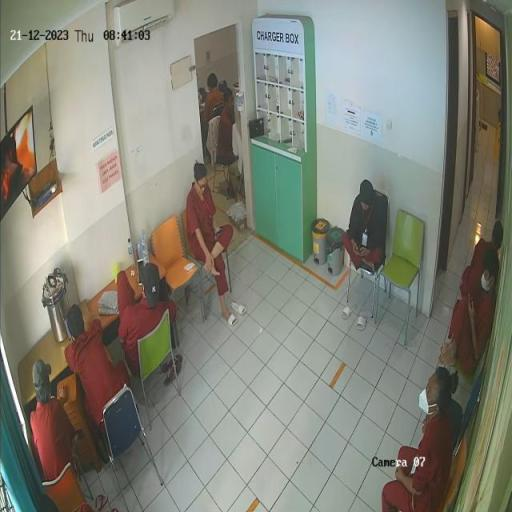person: (383, 367, 460, 512), (65, 306, 131, 465), (187, 163, 238, 327), (439, 249, 500, 375), (118, 264, 177, 377), (32, 360, 80, 491), (345, 180, 384, 273), (461, 221, 504, 301), (230, 104, 245, 199), (219, 88, 236, 169), (206, 74, 225, 134)
